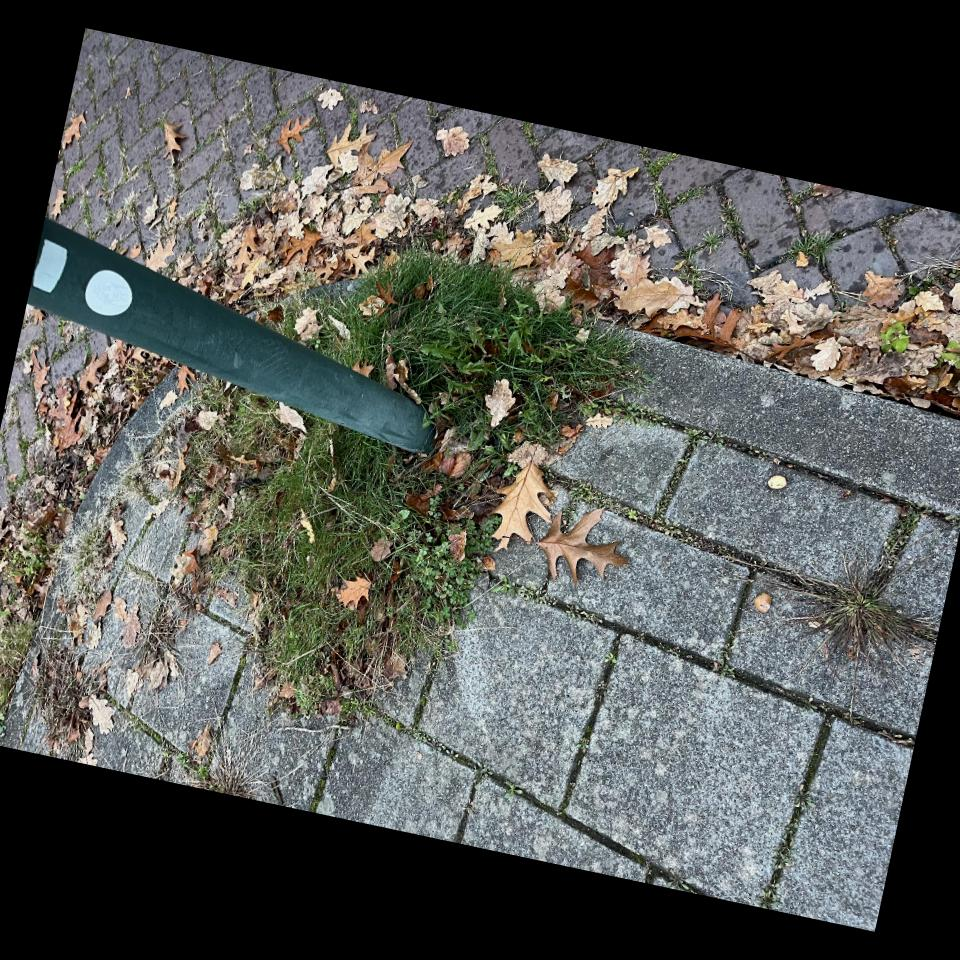weed: (193, 252, 638, 710), (782, 564, 938, 667), (170, 754, 260, 799), (648, 152, 685, 216), (218, 196, 266, 234), (788, 231, 838, 261), (494, 181, 532, 220), (80, 194, 98, 238), (483, 136, 498, 175), (702, 230, 722, 253), (67, 158, 84, 178), (194, 724, 210, 744), (218, 736, 233, 754)
